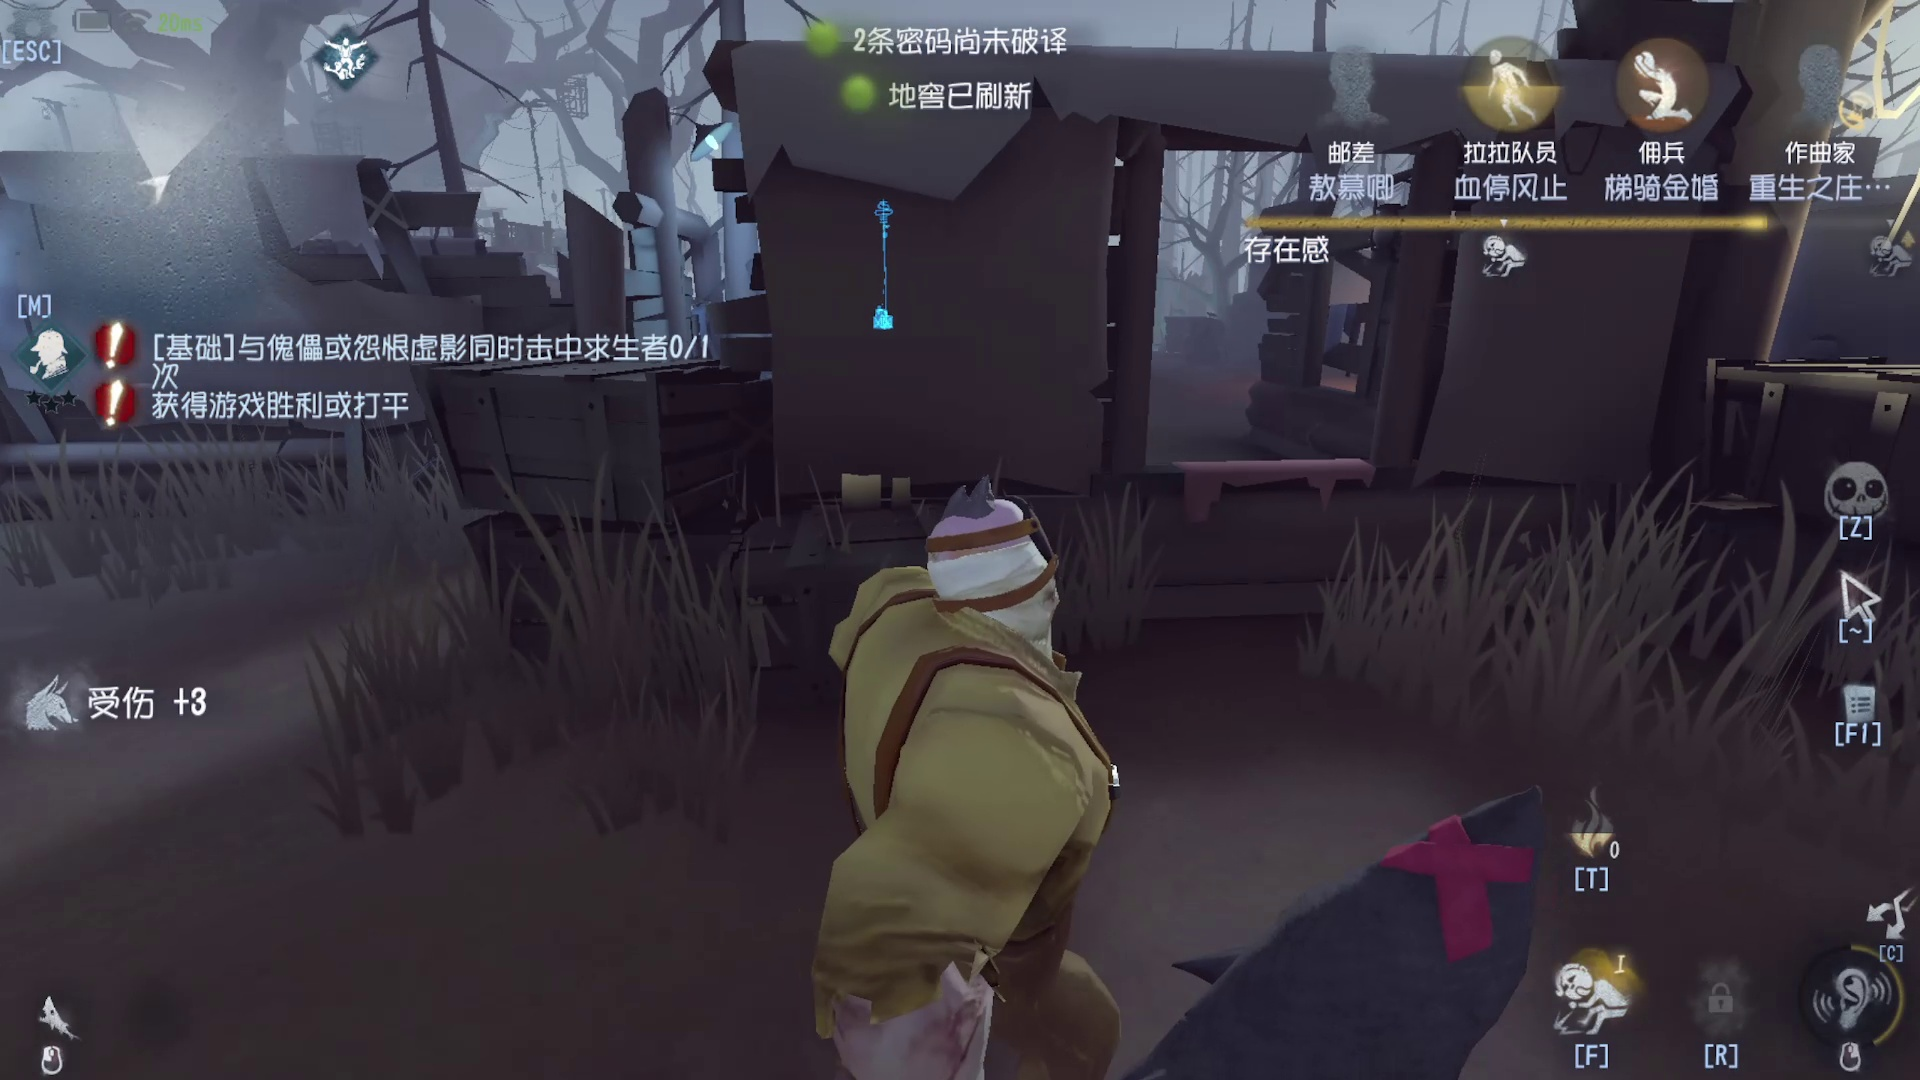密码机: (851, 179, 916, 344)
